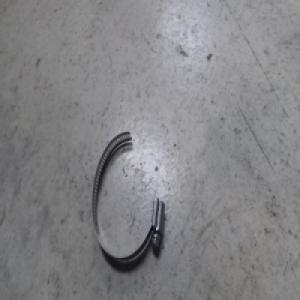AdjustableClamp: (90, 128, 170, 262)
